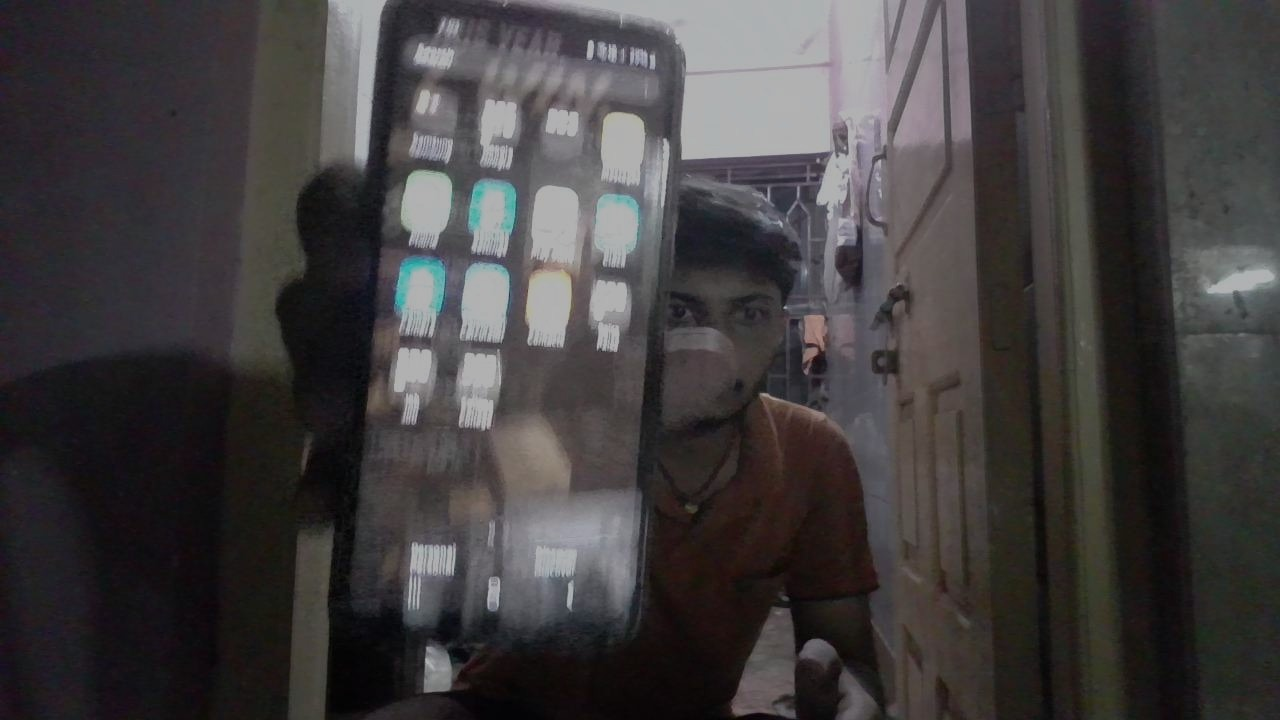red_box: (705, 404, 860, 561)
